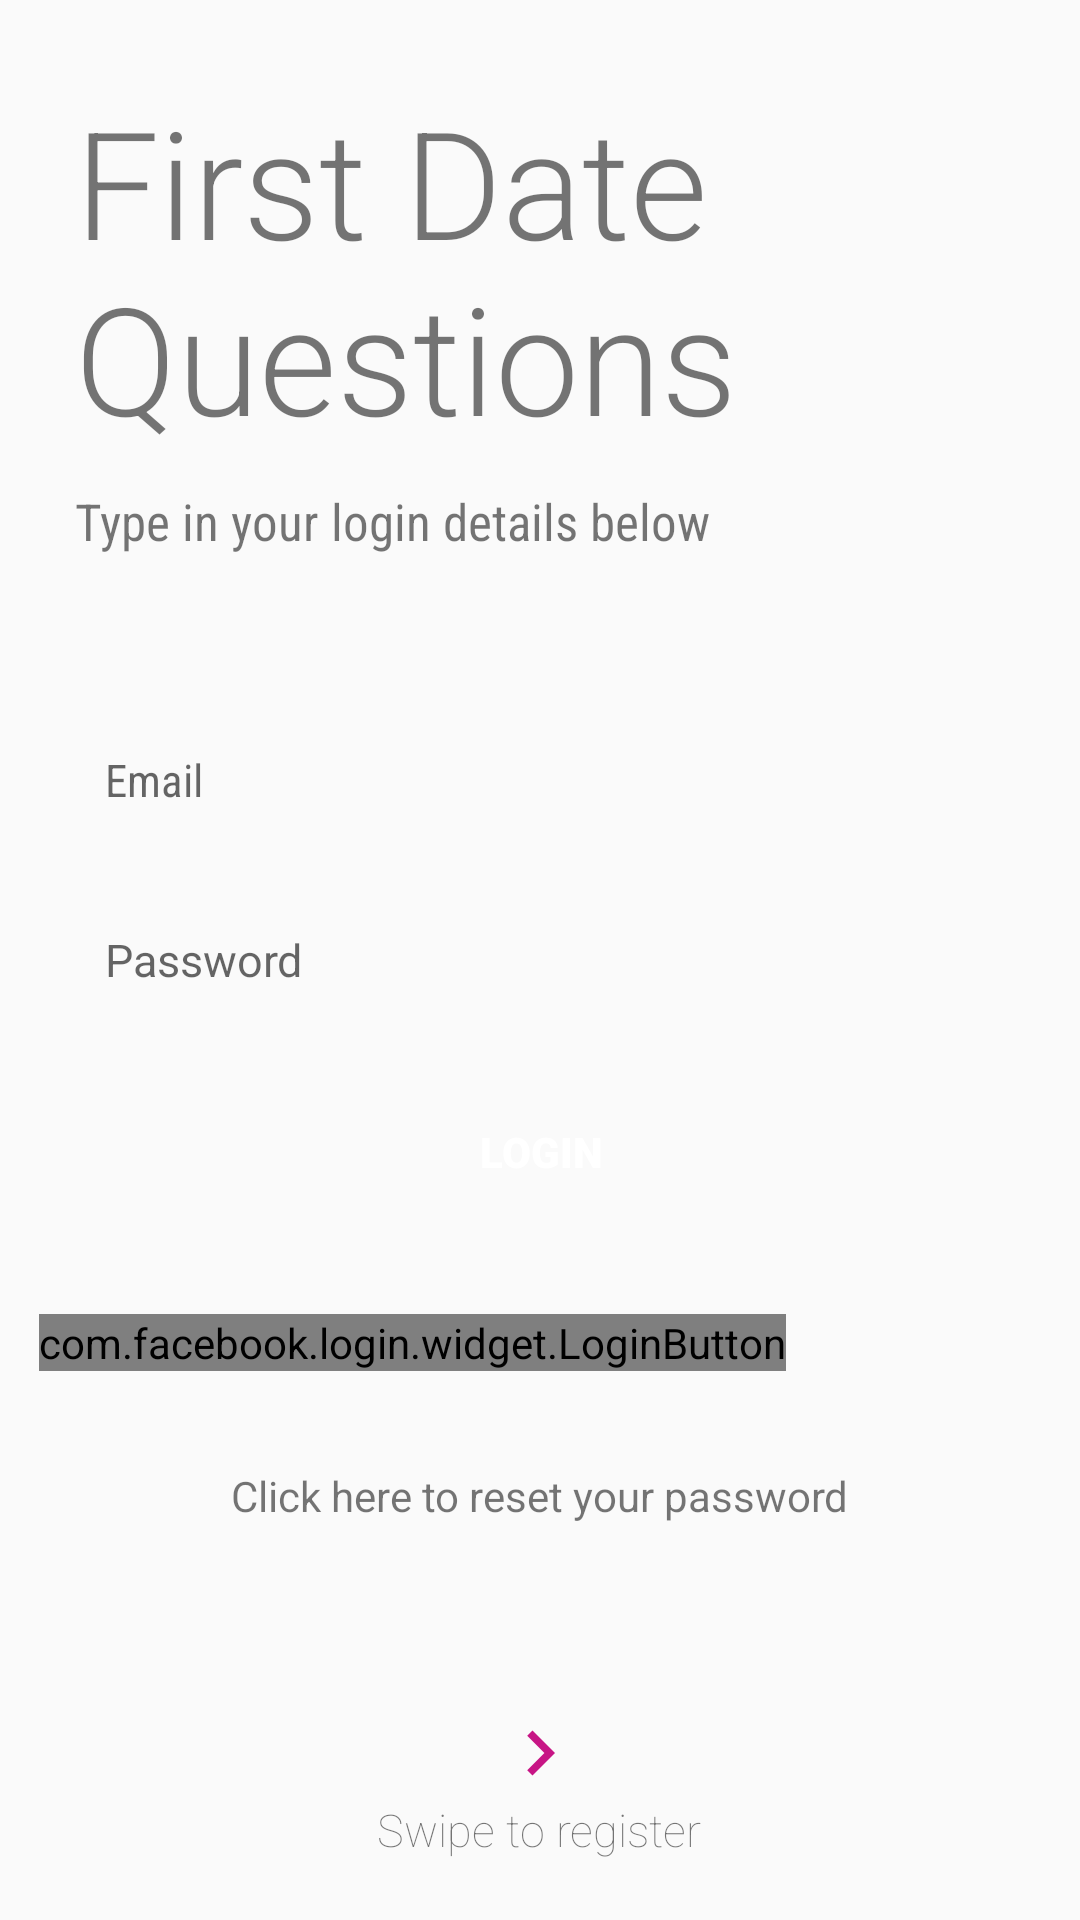

Where icons sit on this 1080x1920 app screen, as box(x1, y1, x2, y2):
rightarric: box(527, 1730, 555, 1776)
